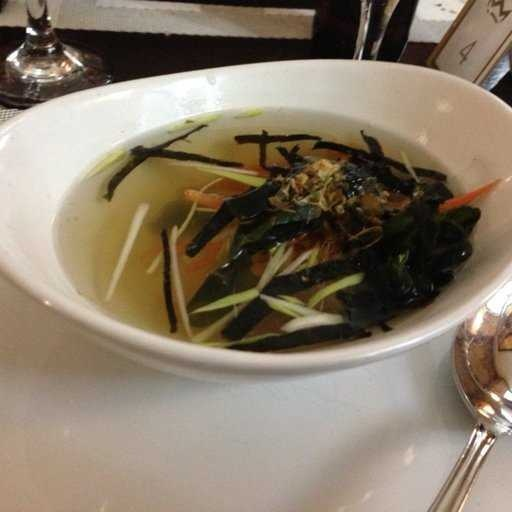soup: (30, 81, 464, 351)
